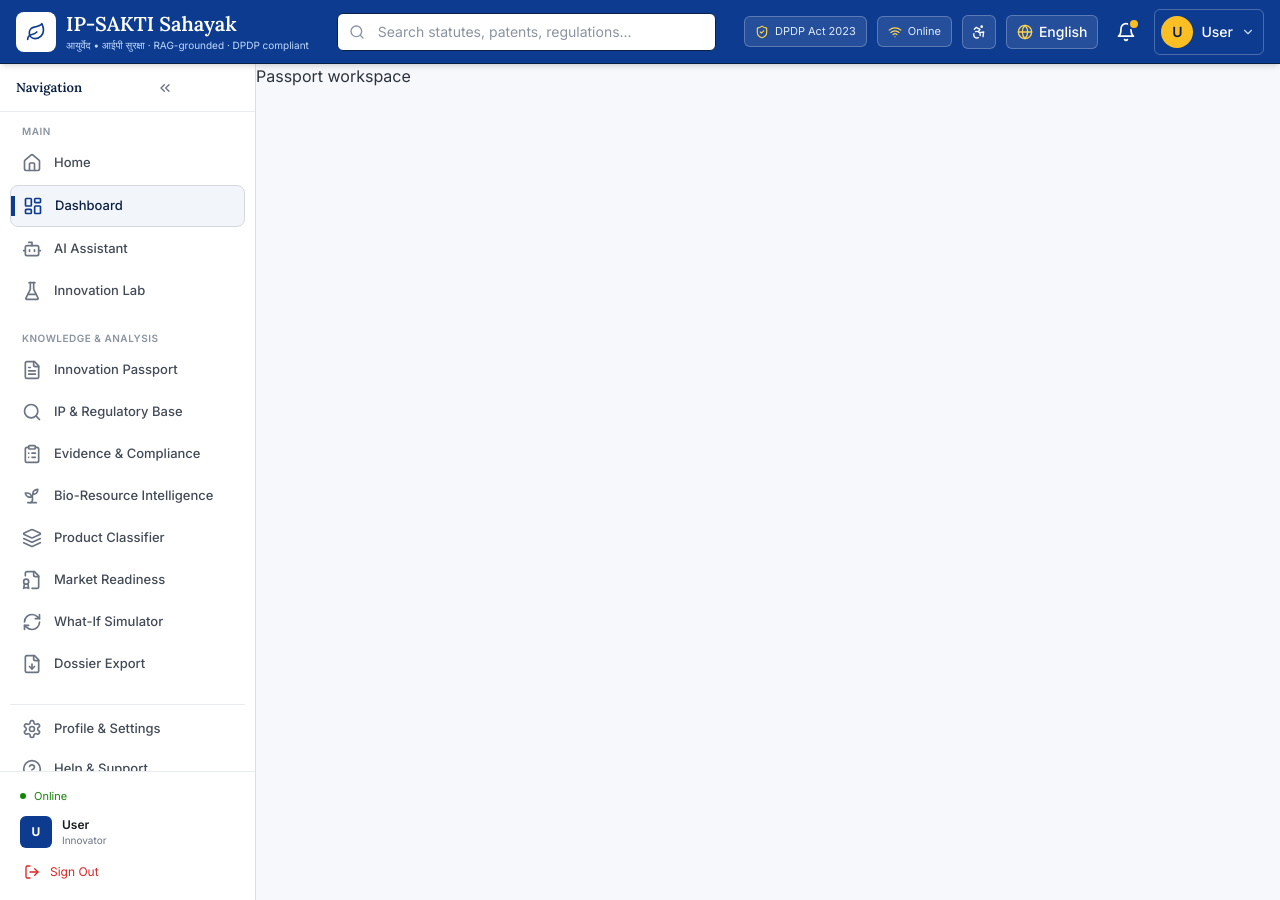
DashboardLayout shell › sidebar collapse toggles the shell state
What coordinates should you click on to do the following:
click the button named "Collapse sidebar"
I would click on:
 (164, 88)
Its box is top-left (150, 74), bottom-right (178, 102).
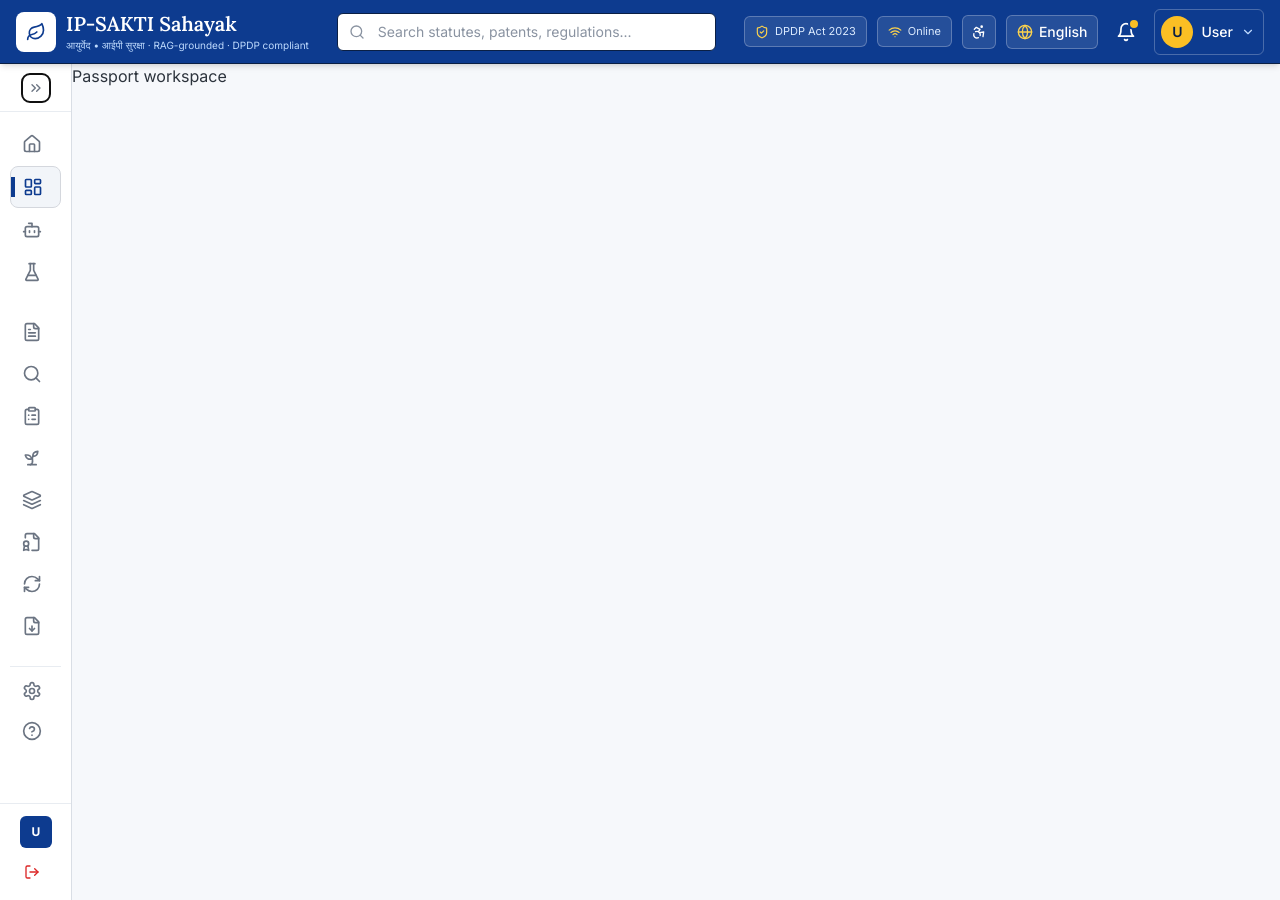
Check: the button named "Expand sidebar" is shown
What coordinates should you click on to do the following:
click the button named "Expand sidebar"
I would click on:
 (36, 88)
Its box is top-left (22, 74), bottom-right (50, 102).
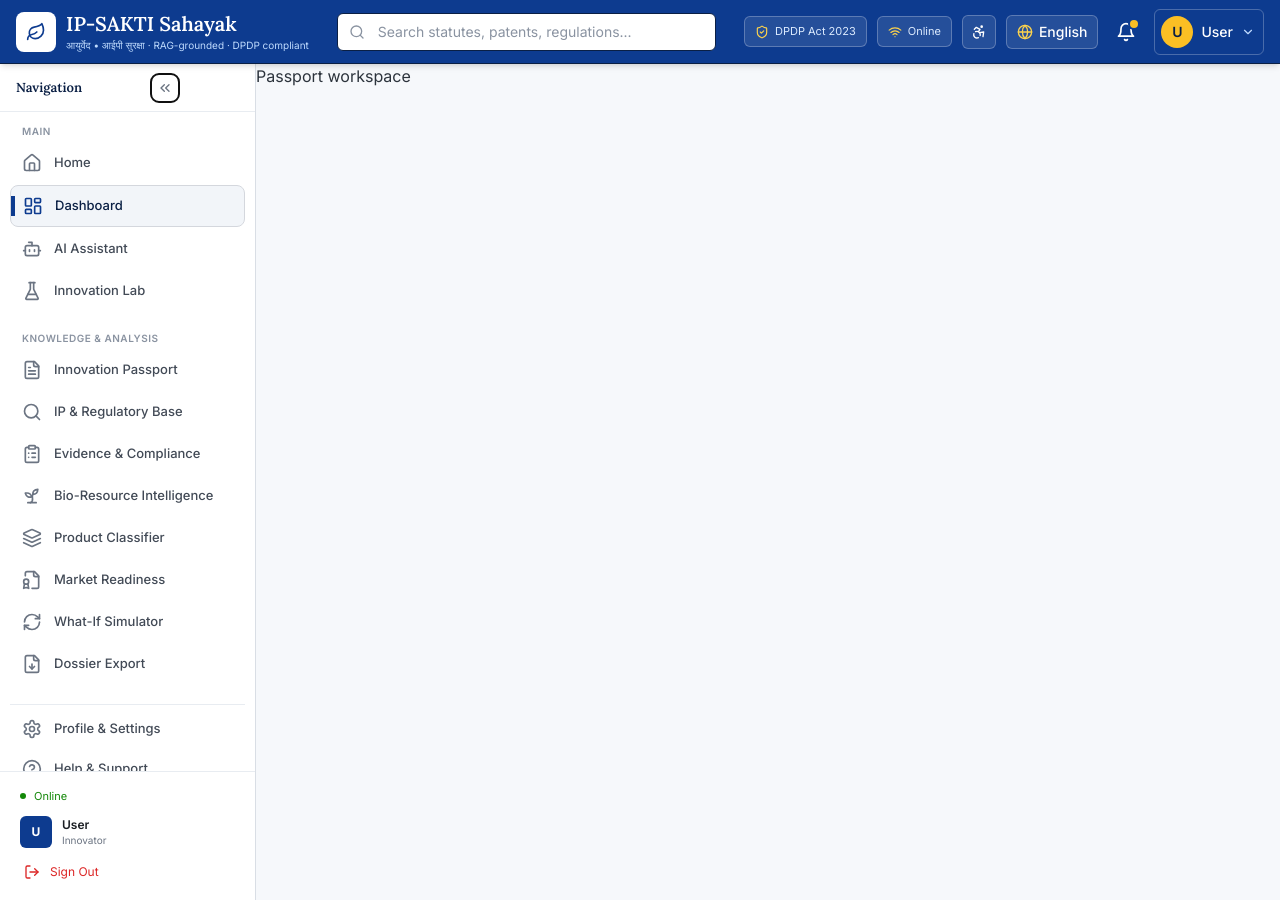
Check: the button named "Collapse sidebar" is shown, box top-left (150, 74), bottom-right (178, 102)
